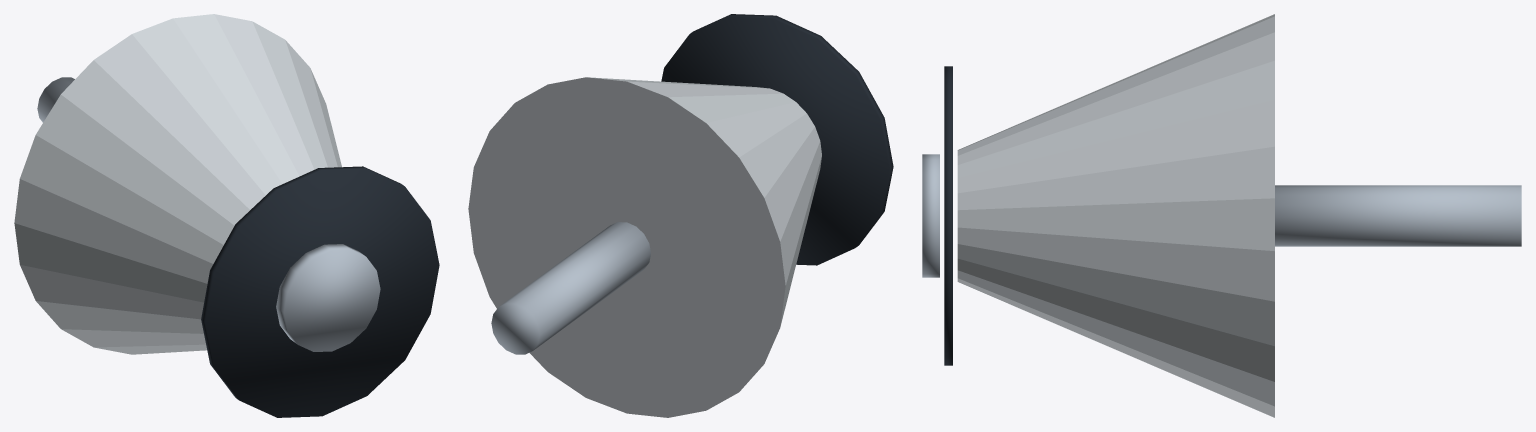
The model's file is speaker.glb.
The picture shows the model from 3 angles, left to right: view 1: azimuth 30°, elevation 25°; view 2: azimuth 150°, elevation 25°; view 3: azimuth 270°, elevation 25°; orthographic projection. The views are drawn at different scales.
Parts seen in each view (by area): view 1: 锥体, Horn throat, Bracket; view 2: 锥体, Horn throat, Bracket; view 3: 锥体, Bracket, Horn throat.
Boxes of the visible parts, x1,y1,x2,y2 form: 锥体: (14,14,341,354); Horn throat: (201,166,439,417); Bracket: (37,77,380,351); 锥体: (468,77,821,417); Horn throat: (661,14,893,265); Bracket: (491,222,650,354); 锥体: (957,14,1274,417); Bracket: (922,154,1521,277); Horn throat: (944,66,952,365).
Bounding box in the file's own units: 0.46 × 0.46 × 0.68.
